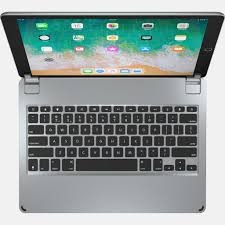keyboard: (23, 96, 202, 181)
